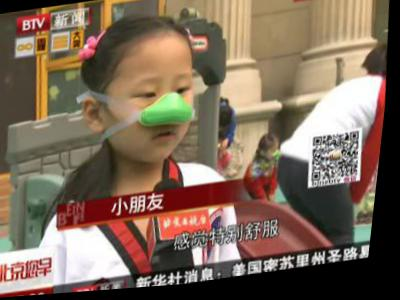WRONG: (105, 63, 209, 165)
